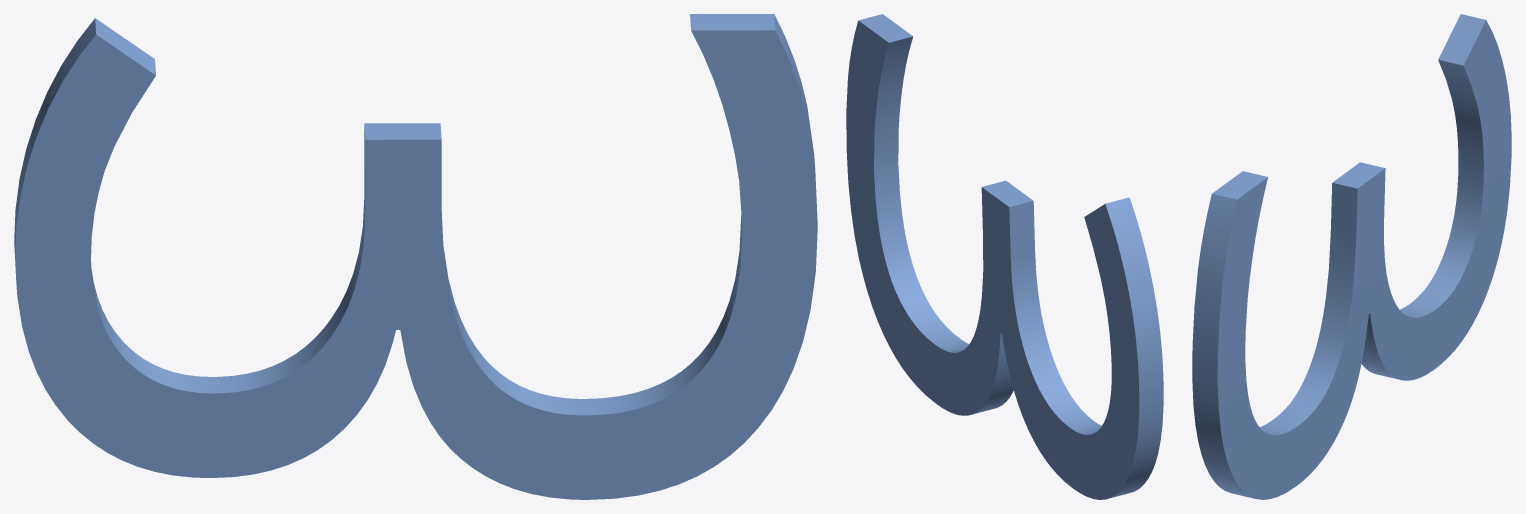
Rendered from New_Number_3.gltf.
The picture shows the model from 3 angles, left to right: view 1: azimuth 30°, elevation 25°; view 2: azimuth 150°, elevation 25°; view 3: azimuth 270°, elevation 25°; orthographic projection. The views are drawn at different scales.
Parts seen in each view (by area): view 1: Part 507; view 2: Part 507; view 3: Part 507.
Part boxes in pixels (box(x1,y1,x2,y2)): Part 507: box(14, 14, 817, 499); Part 507: box(846, 14, 1163, 499); Part 507: box(1192, 14, 1511, 499).
Size of the model in its own units: 0.00461 by 0.0033 by 0.00281.
